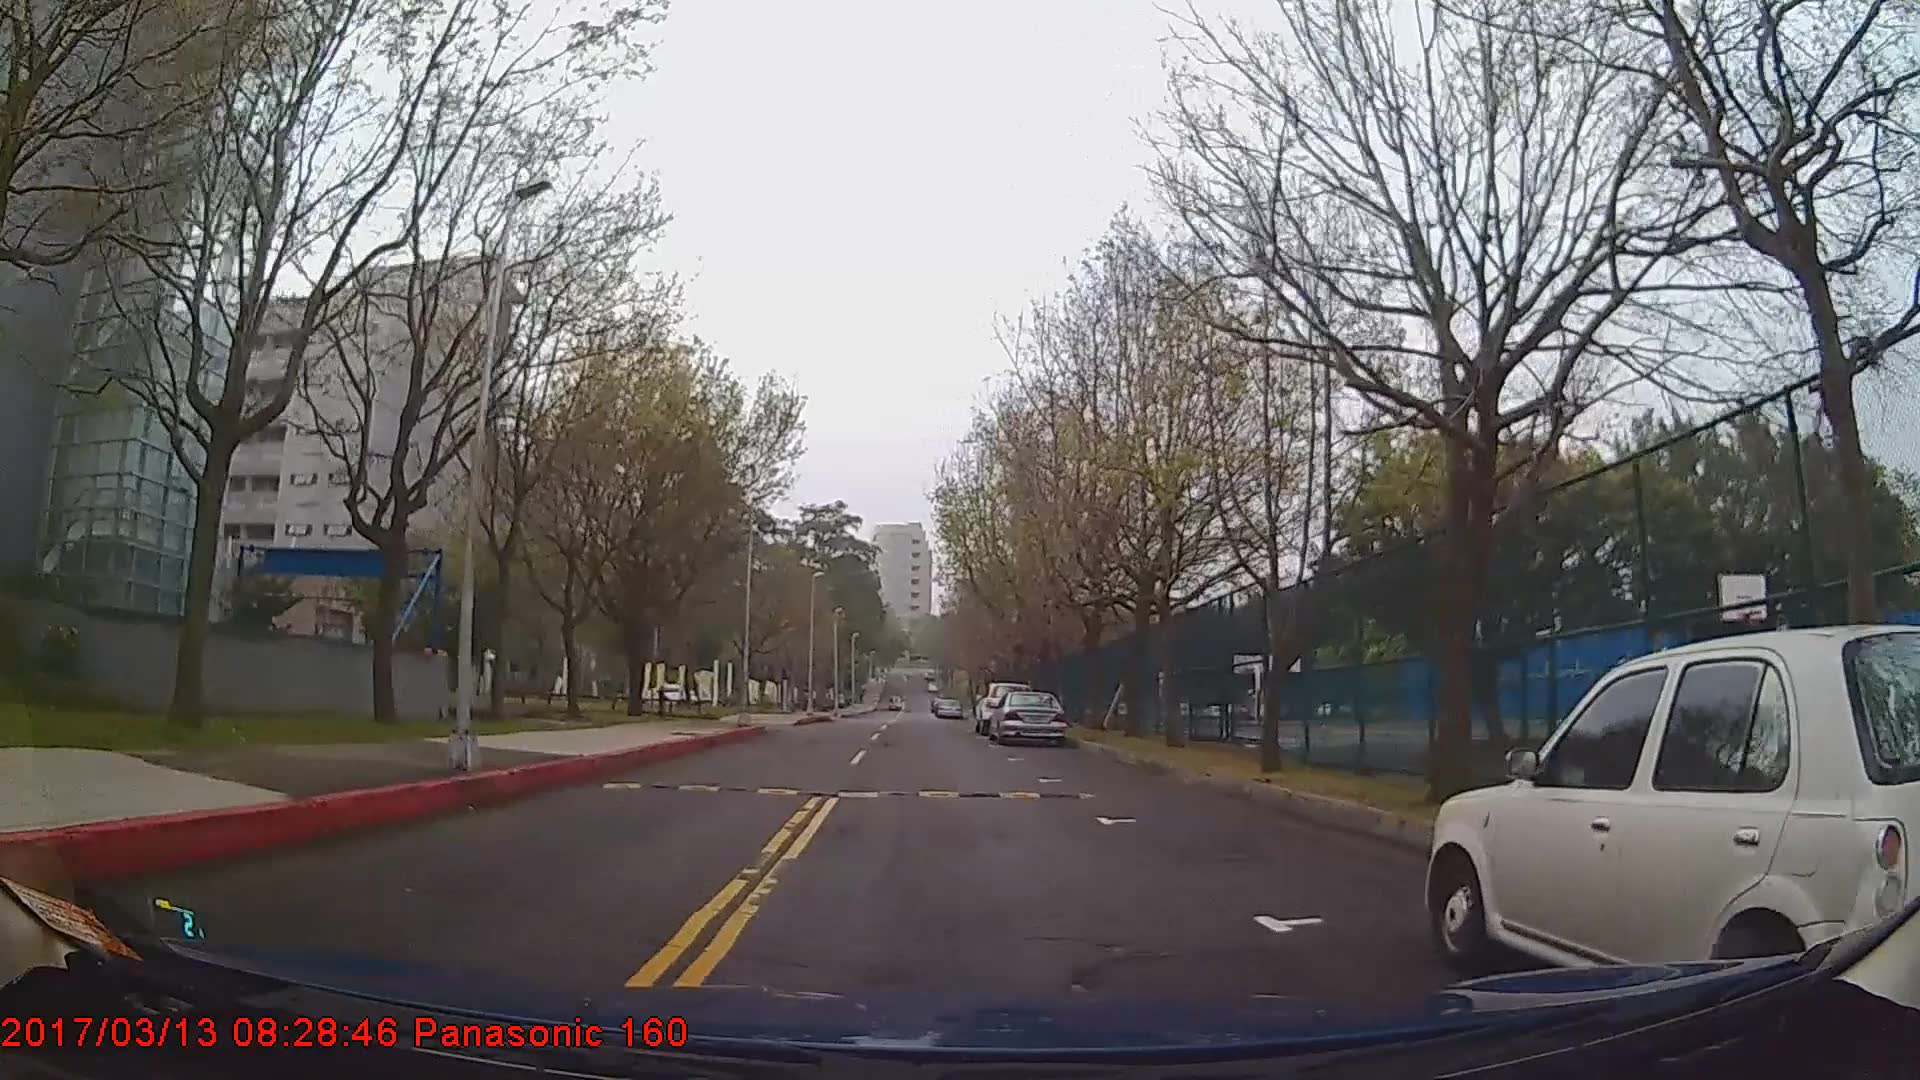vehicle: (1428, 622, 1911, 986), (986, 686, 1067, 742), (932, 694, 964, 719)
